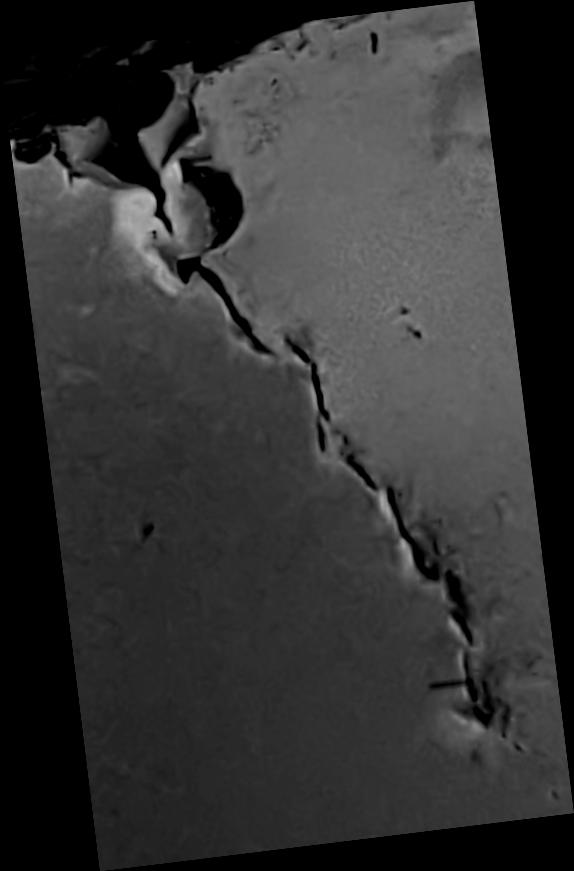crack: (1, 0, 574, 871)
